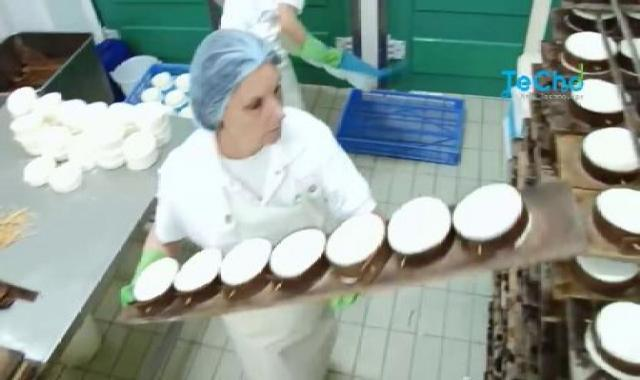Apron: (208, 170, 336, 380)
Glove: (117, 247, 173, 308), (299, 29, 346, 70)
Hairnet: (183, 22, 282, 132), (229, 104, 286, 146)
